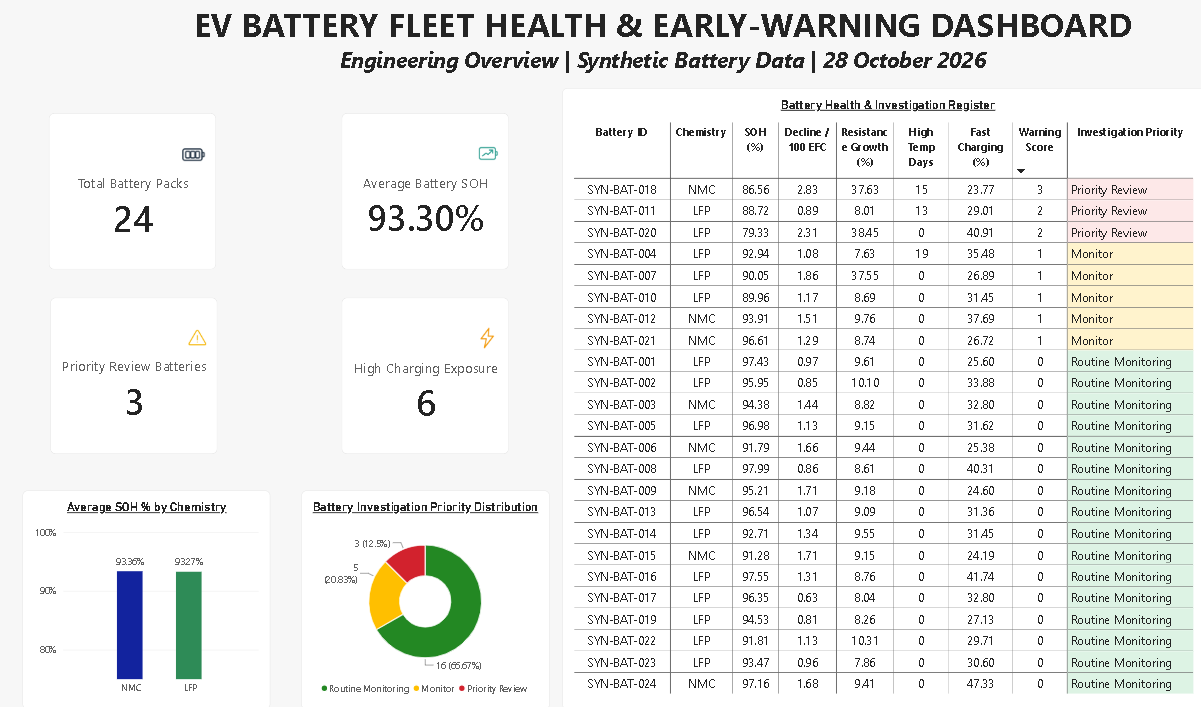

This screenshot's page, from the dashboard's own definition file:
{"tool":"powerbi","page":{"name":"Fleet Health & Early Warning","canvas":[1920,1080],"ordinal":0},"visuals":[{"type":"cardVisual","fields":{"Data":["BatteryFleet.Total Battery Packs"]},"box":[159.1,192.1,250,233.5],"z":0},{"type":"cardVisual","fields":{"Data":["BatteryFleet.Average Battery SOH"]},"box":[595,192.1,249,233],"z":1000},{"type":"cardVisual","fields":{"Data":["BatteryFleet.Priority Review Batteries"]},"box":[161.1,466.9,249,233],"z":2000},{"type":"cardVisual","fields":{"Data":["BatteryFleet.High Charging Exposure"]},"box":[595,466.9,249,233],"z":3000},{"type":"donutChart","title":"Battery Investigation Priority Distribution","fields":{"Category":["BatteryFleet.InvestigationPriority"],"Y":["BatteryFleet.Total Battery Packs"]},"box":[535.1,754.1,369.8,326.4],"z":4000},{"type":"textbox","box":[285.1,26.9,1576.3,128.1],"z":5000},{"type":"clusteredColumnChart","title":"Average SOH % by Chemistry","fields":{"Category":["BatteryFleet.chemistry"],"Y":["BatteryFleet.Average SOH %"]},"box":[119.8,754.1,369,326],"z":6000},{"type":"tableEx","title":"Battery Health & Investigation Register","fields":{"Values":["BatteryFleet.battery_id","BatteryFleet.chemistry","BatteryFleet.SOH","BatteryFleet.DeclinePer100EFC","BatteryFleet.ResistanceGrowthPct","BatteryFleet.HighTempDays","BatteryFleet.FastChargePct","BatteryFleet.EnhancedScore","BatteryFleet.InvestigationPriority"]},"box":[923.5,154.9,969,925.6],"z":7000}]}

Visuals, with their boxes on the page's 1920x1080 design canvas (x1, y1, x2, y2). These are canvas units, not pixel positions in the 1201x707 screenshot, which may show the page scaled, cropped or inside an application window:
cardVisual - BatteryFleet.Total Battery Packs: [159,192,409,426]
cardVisual - BatteryFleet.Average Battery SOH: [595,192,844,425]
cardVisual - BatteryFleet.Priority Review Batteries: [161,467,410,700]
cardVisual - BatteryFleet.High Charging Exposure: [595,467,844,700]
"Battery Investigation Priority Distribution" donutChart: [535,754,905,1080]
textbox: [285,27,1861,155]
"Average SOH % by Chemistry" clusteredColumnChart: [120,754,489,1080]
"Battery Health & Investigation Register" tableEx: [924,155,1892,1080]
